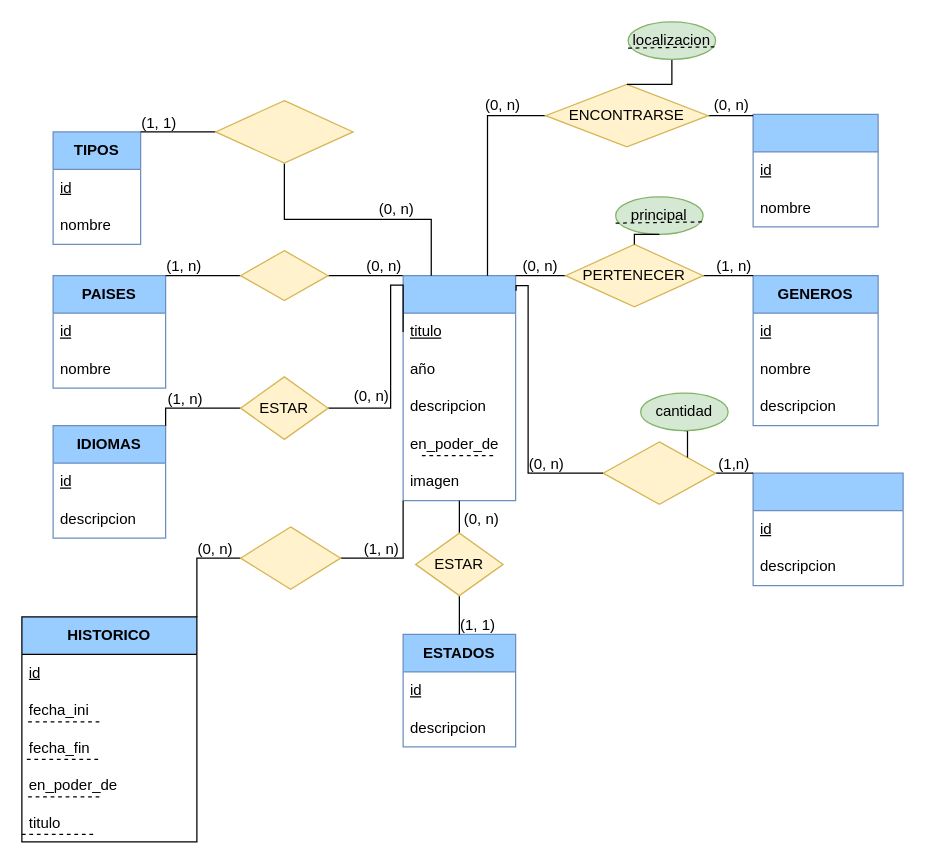
Image size: 925x864. Some labels were removed from this diagram. The shapes that lost their labels are listed below. From the top down, each one's box as (x1, y1, x2, y2) in pixels, then its label:
(214, 99, 353, 163): CATALOGARSE
(752, 113, 878, 227): SOPORTE
(239, 249, 328, 301): CREAR
(402, 274, 516, 501): TITULOS
(602, 441, 716, 504): DIVIDIRSE
(752, 472, 903, 586): EXTENSIONES
(239, 526, 341, 589): REGISTRAR
